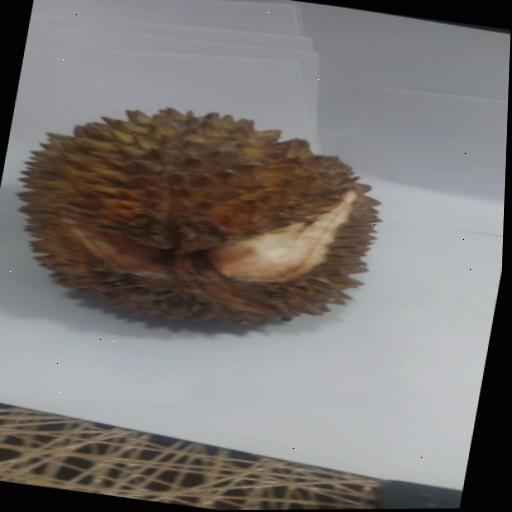rot: (0, 77, 443, 372)
